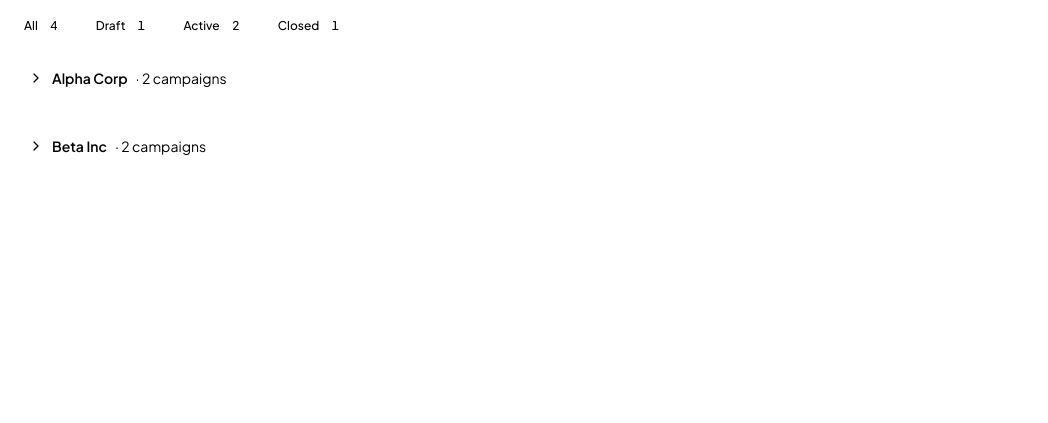
Test case: CampaignsListWithFilter — grouped by company › expands only one company at a time
The image size is (1048, 423).
Step 1. Click the button "Alpha Corp · 2 campaigns" → (90, 78), box top-left (12, 56), bottom-right (1036, 100)
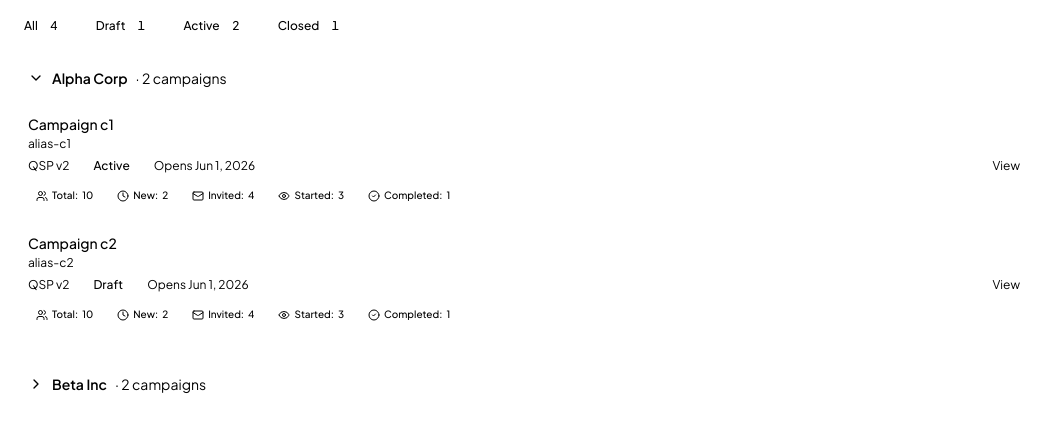
Result: the button "Alpha Corp · 2 campaigns" is expanded at top-left (12, 56), bottom-right (1036, 100)
Result: the link "Campaign c1" is shown at top-left (28, 115), bottom-right (114, 133)
Result: the link "Campaign c2" is shown at top-left (28, 234), bottom-right (117, 252)
Step 2. Click the button "Beta Inc · 2 campaigns" → (79, 384), box top-left (12, 362), bottom-right (1036, 406)
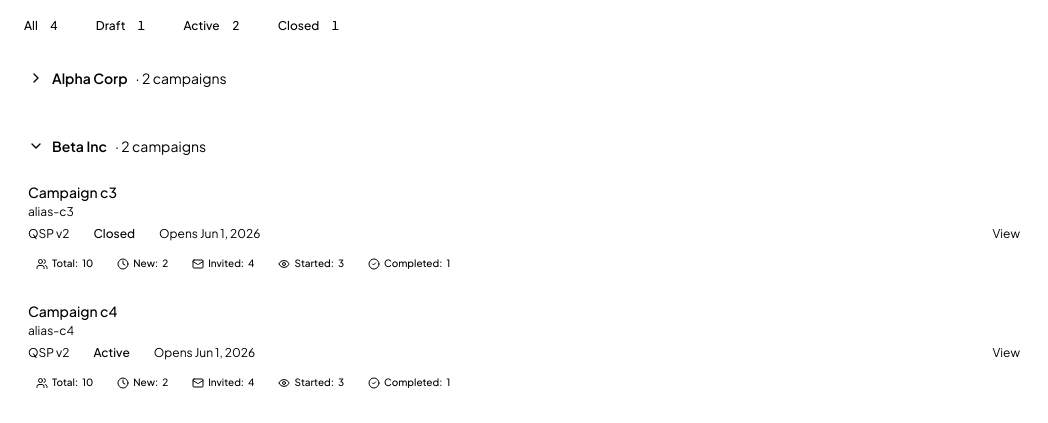
Result: the button "Alpha Corp · 2 campaigns" is collapsed at top-left (12, 56), bottom-right (1036, 100)
Result: the button "Beta Inc · 2 campaigns" is expanded at top-left (12, 124), bottom-right (1036, 168)
Result: the link "Campaign c1" is gone
